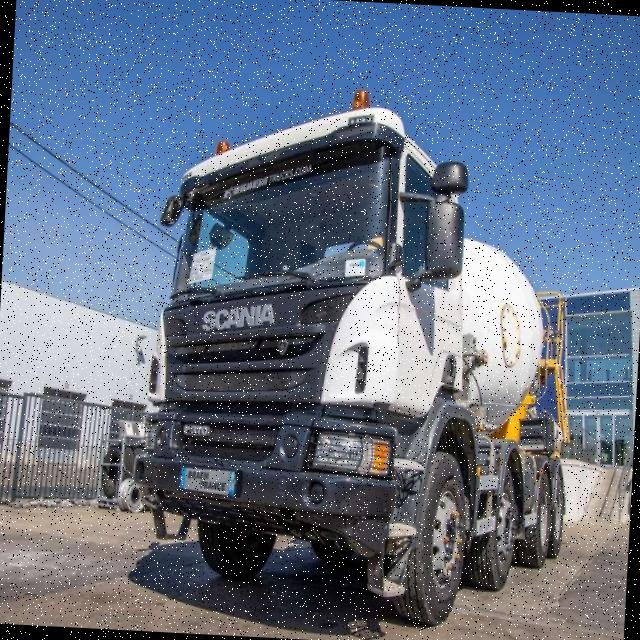Mixer Truck: (127, 97, 588, 632)
